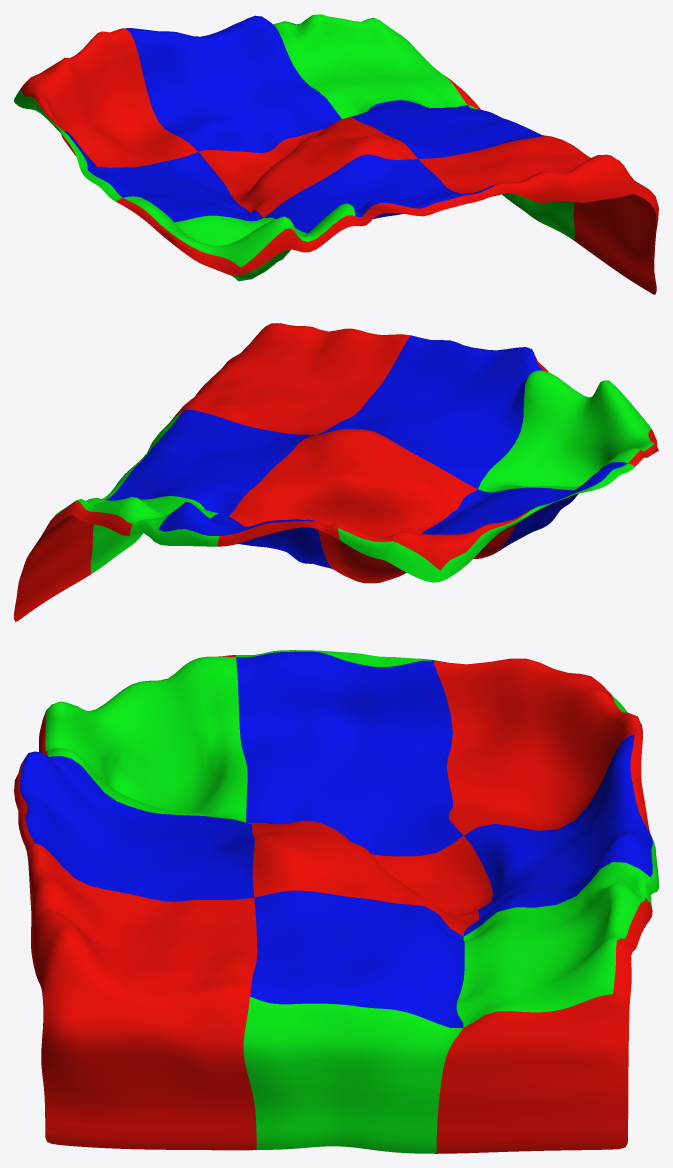
File: Mapa_completo.fbx
3 views of the same model, one above another, from view 1: azimuth 30°, elevation 25°; view 2: azimuth 150°, elevation 25°; view 3: azimuth 270°, elevation 25° (orthographic). The views are drawn at different scales.
Parts seen in each view (by area): view 1: Mapa completo SIN MODIFIER; view 2: Mapa completo SIN MODIFIER; view 3: Mapa completo SIN MODIFIER.
Part boxes in pixels (bbox=[...]): Mapa completo SIN MODIFIER: bbox=[14, 14, 658, 294]; Mapa completo SIN MODIFIER: bbox=[14, 323, 658, 621]; Mapa completo SIN MODIFIER: bbox=[14, 650, 658, 1153].
Bounding box in the file's own units: 16650 × 6203 × 15248.
